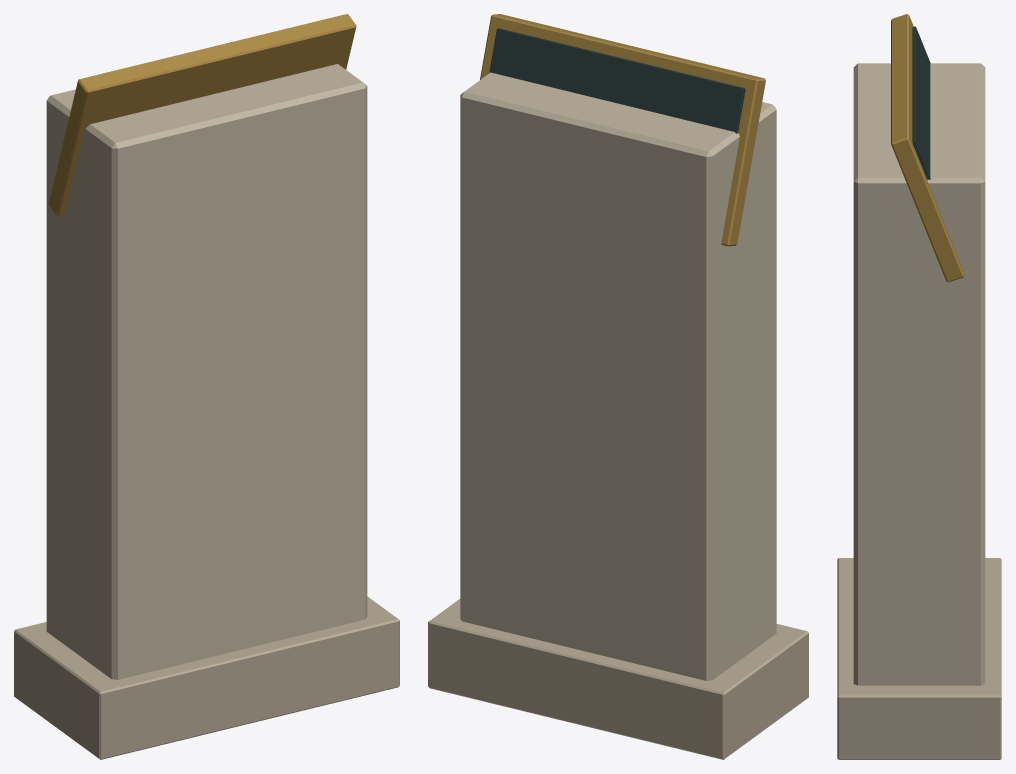
The model's file is plaque.glb.
The picture shows the model from 3 angles, left to right: view 1: azimuth 30°, elevation 25°; view 2: azimuth 150°, elevation 25°; view 3: azimuth 270°, elevation 25°; orthographic projection. The views are drawn at different scales.
Parts seen in each view (by area): view 1: body; view 2: body; view 3: body.
Boxes of the visible parts, bbox=[...] form: body: bbox=[14, 14, 399, 759]; body: bbox=[428, 14, 808, 759]; body: bbox=[837, 14, 1001, 759].
Size of the model in its own units: 0.6 by 1.24 by 0.3.
